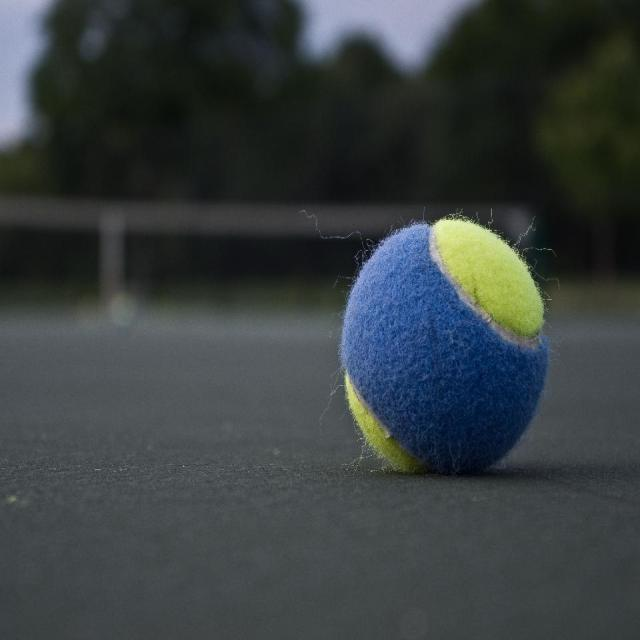Tennis ball: (300, 210, 562, 475), (300, 210, 564, 472)
